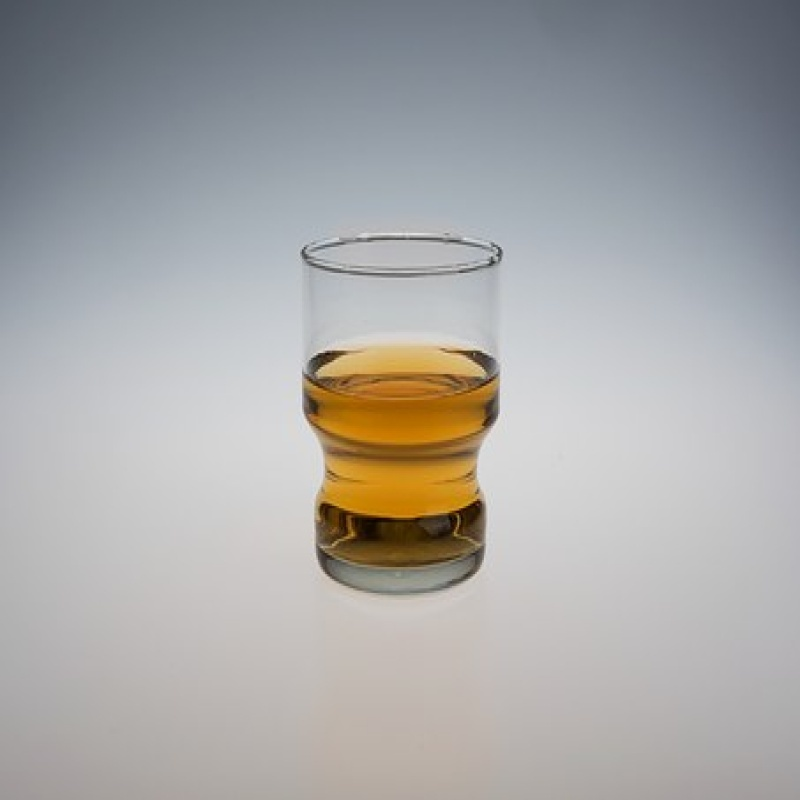whiskey: (288, 228, 516, 498)
